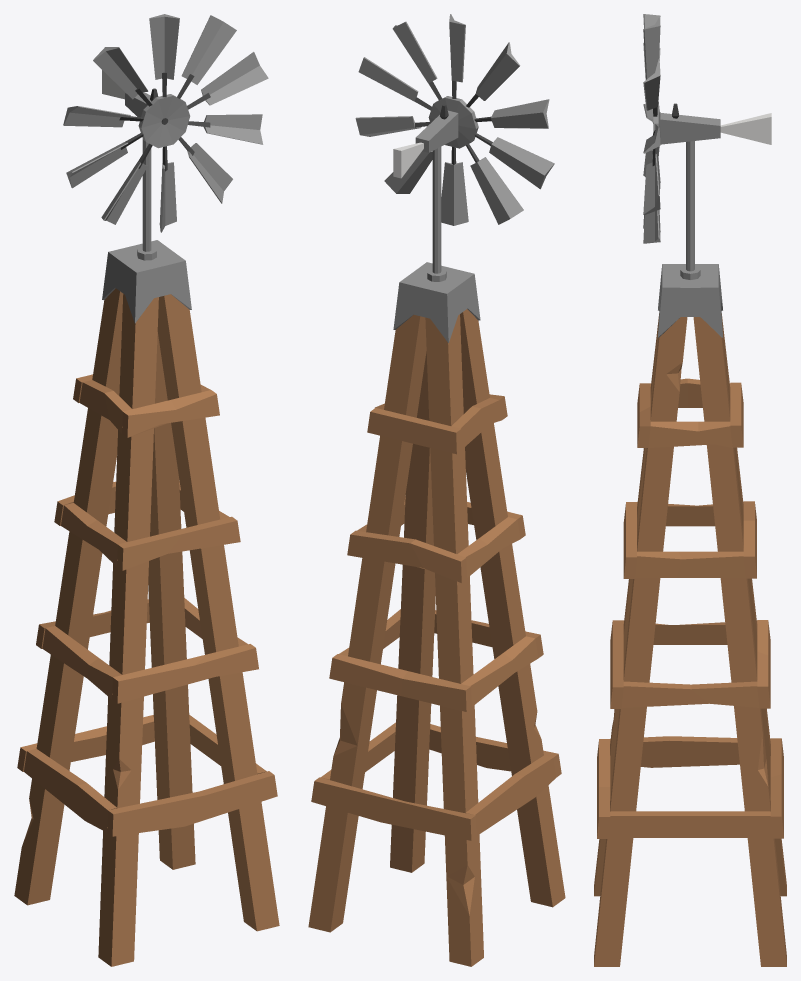
File: Windmill.fbx
The picture shows the model from 3 angles, left to right: view 1: azimuth 30°, elevation 25°; view 2: azimuth 150°, elevation 25°; view 3: azimuth 270°, elevation 25°; orthographic projection. The views are drawn at different scales.
Visible parts, largest first — view 1: Windmill; view 2: Windmill; view 3: Windmill.
Part boxes in pixels (box(x1,y1,x2,y2)): Windmill: box(14, 14, 279, 966); Windmill: box(308, 14, 565, 966); Windmill: box(594, 14, 786, 966).
Bounding box in the file's own units: 312 × 264 × 1359.
